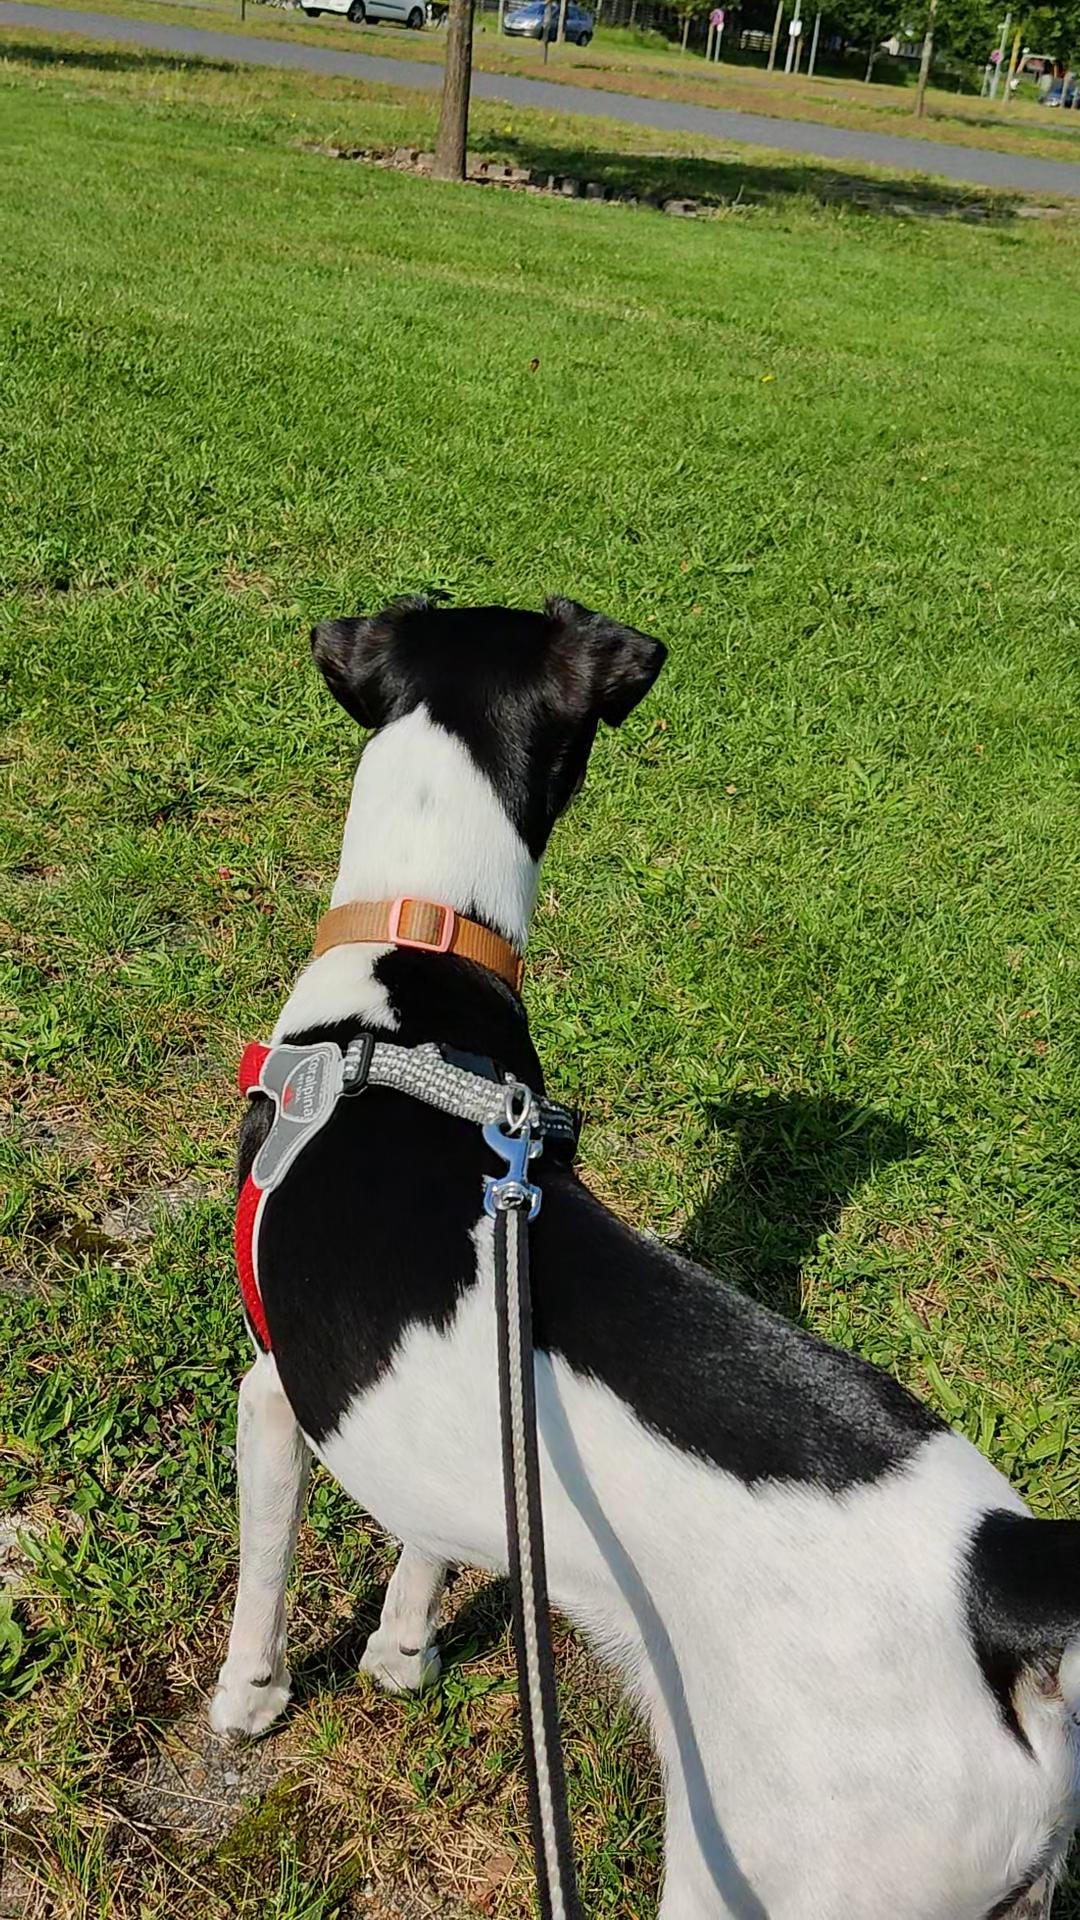Dog: (199, 589, 1079, 1919)
